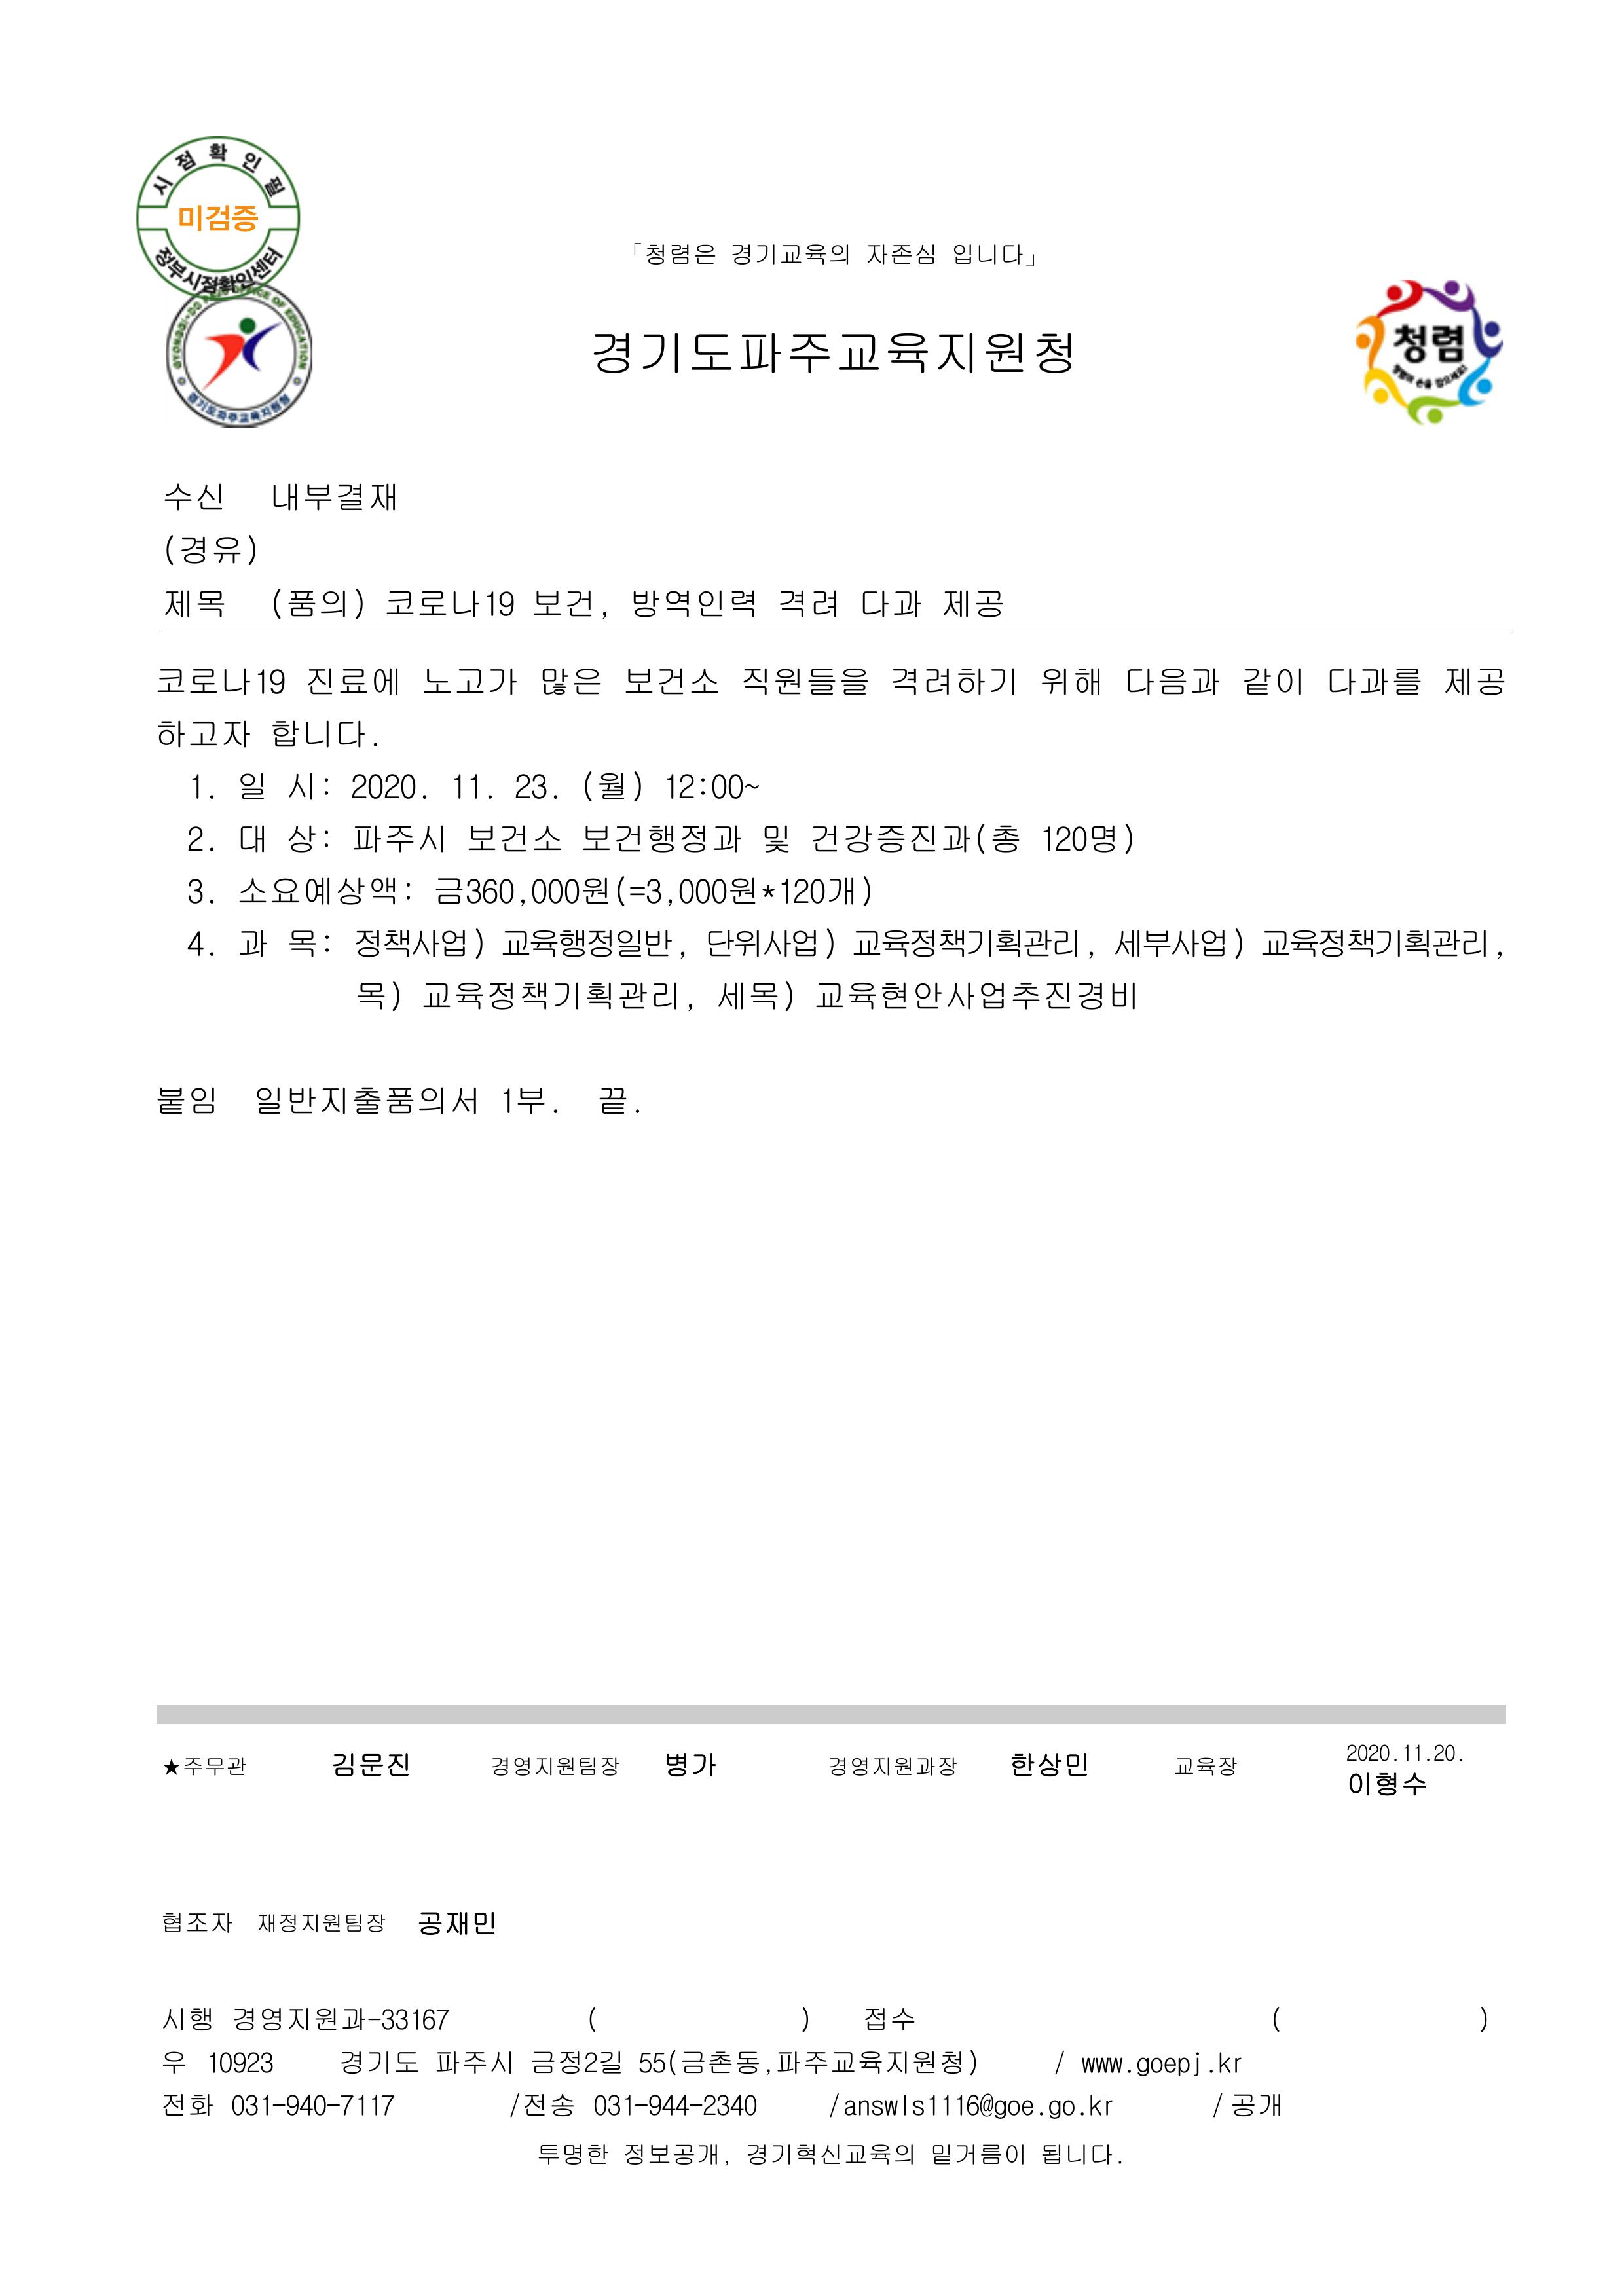t: (591, 329, 1075, 380), (814, 975, 1140, 1014), (419, 975, 692, 1014), (849, 925, 1086, 961), (1259, 925, 1495, 961), (807, 817, 1022, 856), (254, 1082, 480, 1118), (236, 875, 415, 914), (771, 2047, 979, 2080), (498, 925, 678, 961), (581, 821, 746, 856), (742, 2137, 918, 2169), (268, 477, 397, 516), (383, 584, 520, 620), (351, 925, 487, 961), (1111, 925, 1247, 961), (154, 663, 290, 699), (885, 663, 1018, 699), (627, 584, 756, 620), (635, 2044, 764, 2080), (739, 663, 868, 699), (703, 925, 821, 961), (229, 2000, 341, 2036), (1388, 319, 1466, 369), (268, 717, 373, 753), (659, 767, 764, 803), (491, 1753, 623, 1782), (774, 871, 875, 907), (419, 663, 520, 699), (1036, 821, 1137, 856), (301, 663, 401, 699), (1122, 663, 1223, 699), (161, 530, 258, 566), (434, 871, 530, 907), (527, 2044, 623, 2080), (623, 663, 720, 699), (1323, 663, 1420, 699), (466, 821, 563, 856), (280, 2090, 397, 2119), (674, 875, 778, 907), (828, 1753, 961, 1778), (268, 584, 351, 623), (348, 821, 448, 853), (258, 1911, 387, 1936), (341, 2004, 452, 2033), (154, 717, 251, 749), (527, 871, 613, 907), (620, 2140, 724, 2169), (175, 200, 258, 236), (713, 979, 796, 1014), (731, 244, 846, 268), (1344, 1767, 1427, 1800), (329, 1750, 412, 1782), (1007, 1750, 1090, 1782), (416, 1907, 498, 1939), (337, 2047, 419, 2080), (530, 584, 602, 620), (534, 2137, 613, 2169), (842, 2094, 943, 2119), (932, 2144, 1029, 2169), (857, 584, 925, 620), (577, 767, 645, 803), (348, 771, 423, 803), (953, 2094, 1036, 2123), (161, 584, 226, 620), (774, 584, 839, 620), (939, 584, 1004, 620), (154, 1082, 219, 1118), (538, 663, 602, 699), (1240, 663, 1305, 699), (1441, 663, 1506, 699), (642, 240, 717, 268), (953, 244, 1040, 268), (506, 2090, 577, 2119), (164, 480, 226, 513), (204, 2047, 276, 2076), (437, 2051, 516, 2076), (498, 1082, 552, 1118), (1043, 2144, 1118, 2169), (864, 244, 939, 268), (161, 1911, 236, 1936), (161, 1757, 247, 1778), (610, 875, 667, 907), (663, 1750, 720, 1782), (448, 767, 498, 803), (1133, 2055, 1205, 2080), (283, 821, 333, 856), (699, 2090, 760, 2119), (161, 2004, 215, 2036), (513, 767, 559, 803), (860, 2004, 914, 2033), (1230, 2090, 1283, 2119), (287, 925, 333, 957), (287, 771, 333, 803), (355, 979, 401, 1011), (1172, 1757, 1240, 1778), (588, 2090, 638, 2119), (595, 1082, 635, 1118), (164, 2094, 219, 2119), (236, 925, 272, 961), (1069, 663, 1104, 699), (645, 2094, 692, 2119), (232, 821, 268, 853), (1040, 663, 1072, 699), (1344, 1742, 1395, 1764), (1047, 2097, 1090, 2123), (229, 2094, 272, 2119), (760, 821, 788, 856), (236, 771, 265, 803), (1079, 2058, 1126, 2076), (186, 824, 212, 853), (190, 774, 215, 803), (186, 878, 208, 907), (1086, 2097, 1115, 2119), (1431, 1742, 1459, 1764), (1215, 2055, 1244, 2076), (190, 932, 212, 957), (1402, 1742, 1427, 1764)
